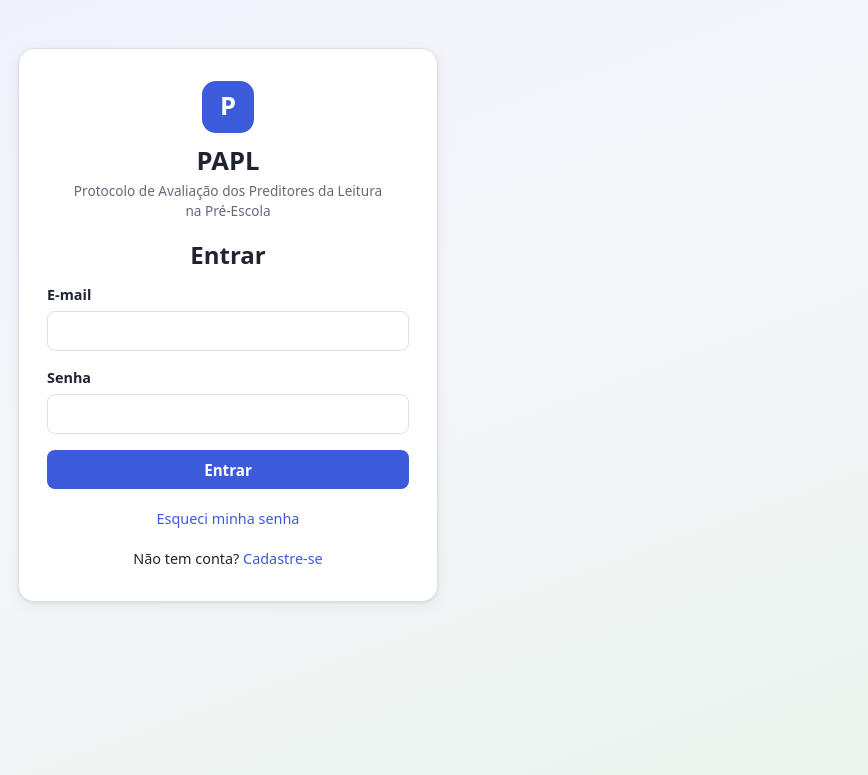
it: LoginPage › mostra mensagem de erro para credenciais inválidas
The image size is (868, 775).
Type "a@papl.dev" into the field labelled "E-mail" at (228, 331), box [47,311,409,351]
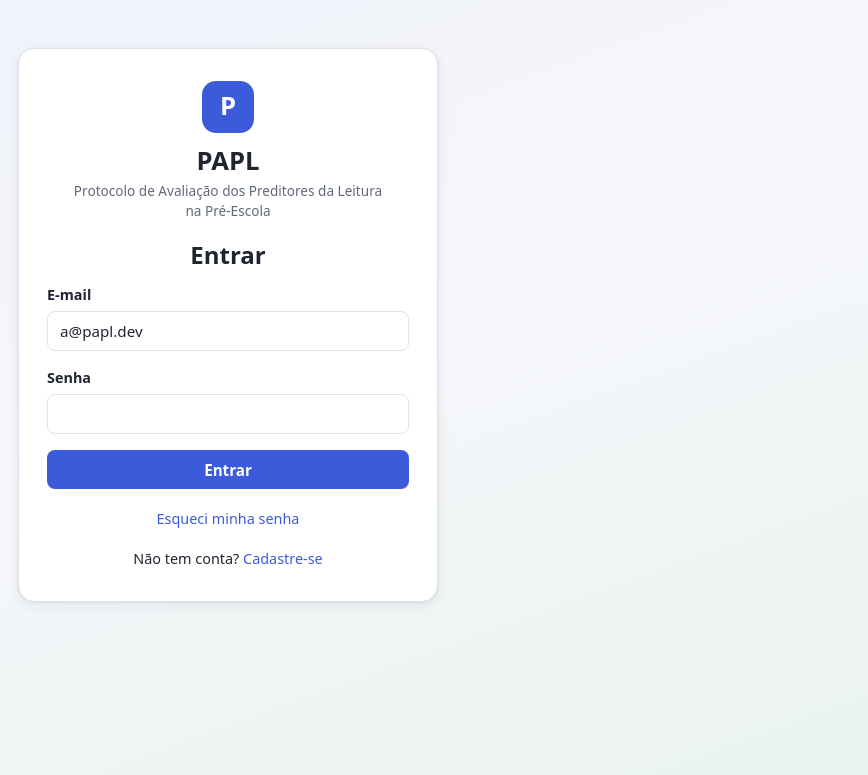
Type "SenhaErrada1" into the password field labelled "Senha" at (228, 414), box [47,394,409,434]
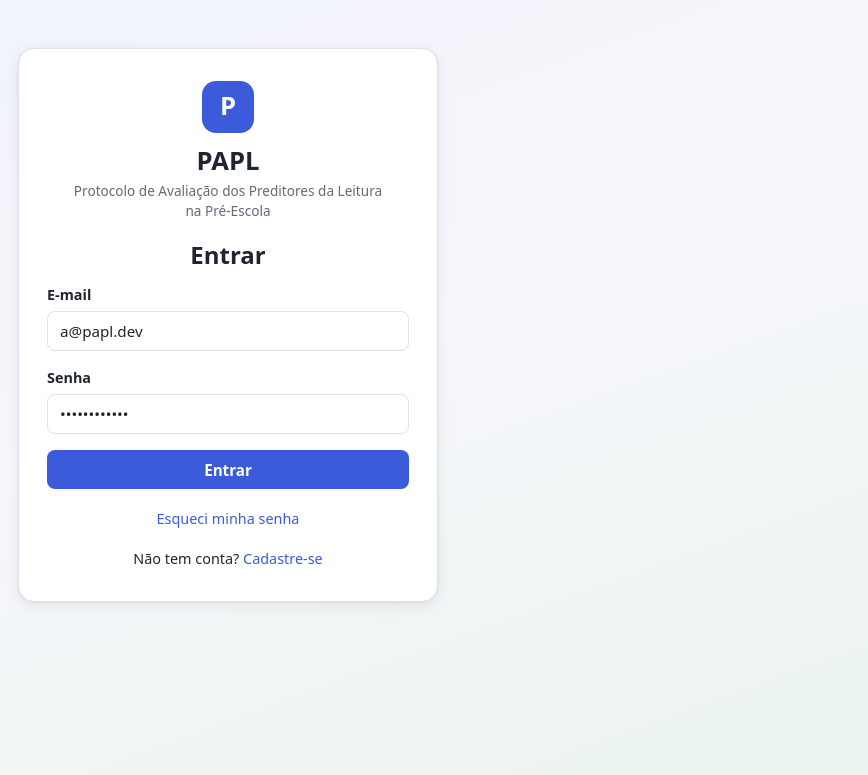
Click the button "Entrar" at (228, 470), box [47,450,409,489]
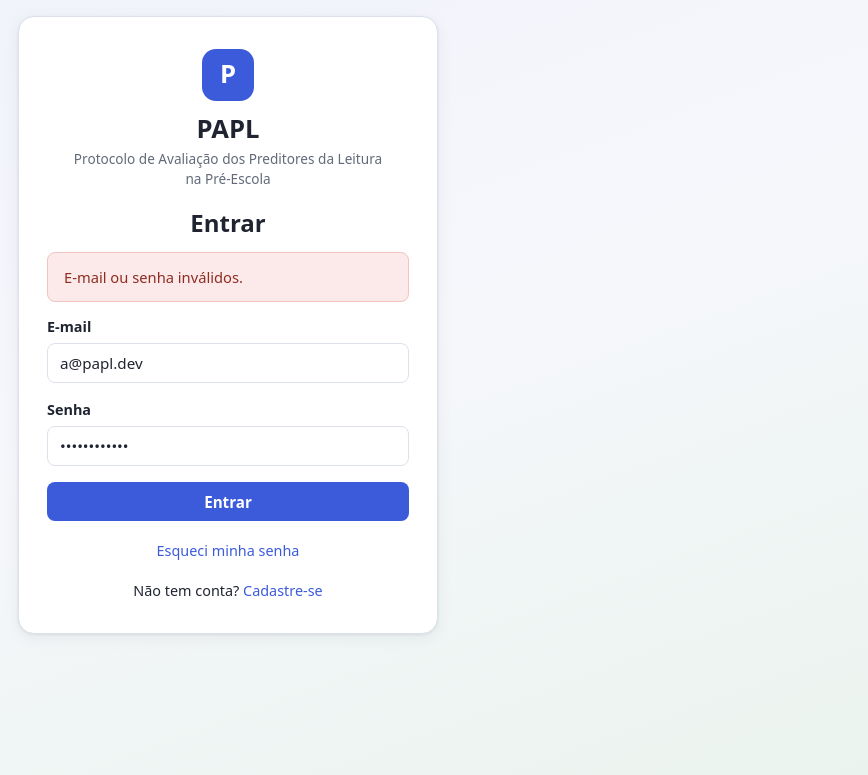
Expected: the text "E-mail ou senha inválidos." is shown, [47,252,409,302]
